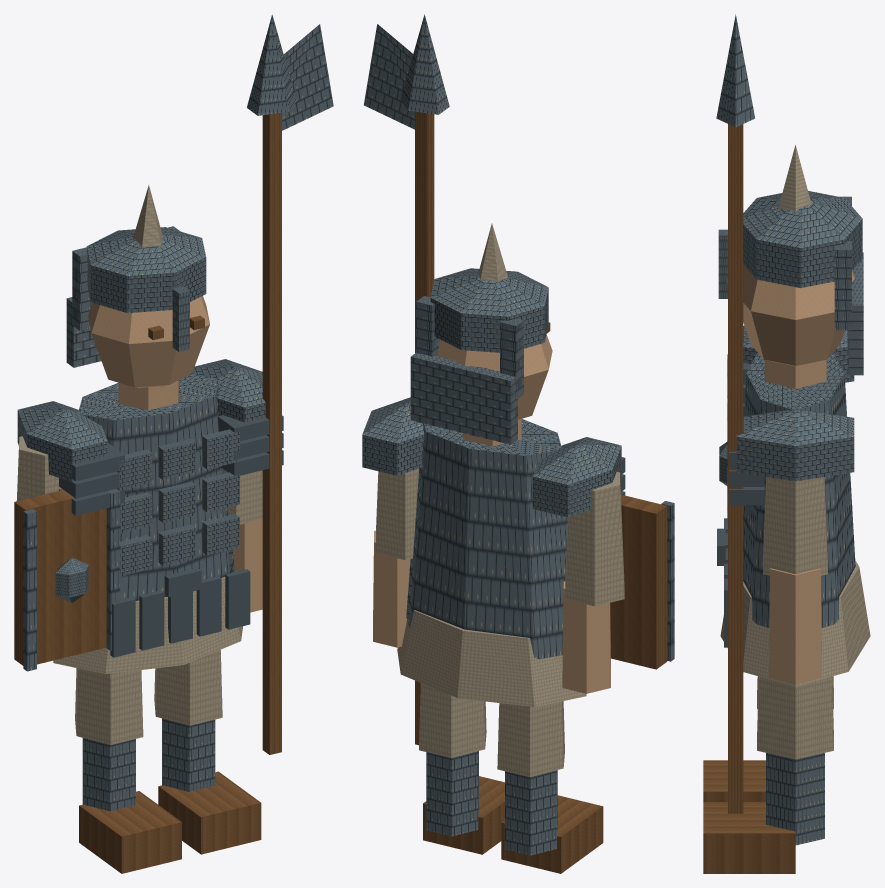
Rendered from unit-HALBERD-lod0.glb.
3 renders of one model, left to right at view 1: azimuth 30°, elevation 25°; view 2: azimuth 150°, elevation 25°; view 3: azimuth 270°, elevation 25°, orthographic. The views are drawn at different scales.
Bounding box in the file's own units: 0.227 × 0.565 × 0.098.
1 material, 1 textured.
